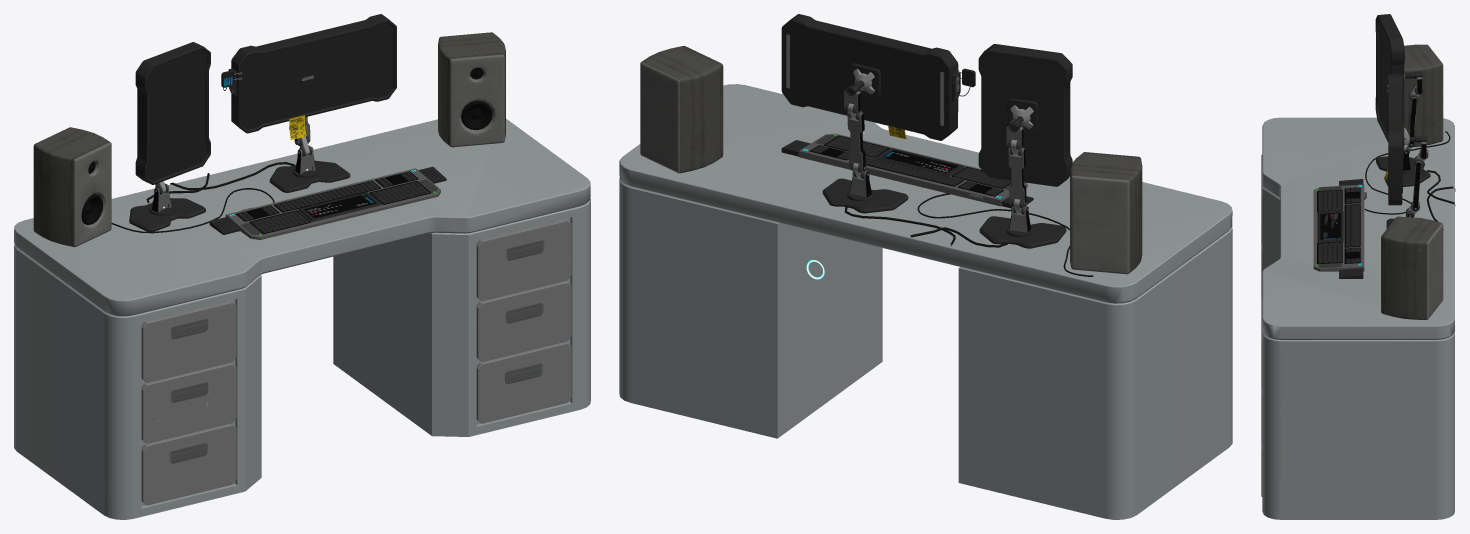
File: command-console.glb
3 views of the same model, side by side, from view 1: azimuth 30°, elevation 25°; view 2: azimuth 150°, elevation 25°; view 3: azimuth 270°, elevation 25° (orthographic). The views are drawn at different scales.
Parts seen in each view (by area): view 1: Object_2, Object_13, Object_12, Object_4, Object_5, Object_6; view 2: Object_2, Object_13, Object_12, Object_4, Object_6; view 3: Object_2, Object_12, Object_13, Object_4, Object_6.
Boxes of the visible parts, left/top/right/bottom form: Object_2: left=14, top=119, right=590, bottom=519; Object_13: left=129, top=14, right=396, bottom=231; Object_12: left=33, top=32, right=505, bottom=247; Object_4: left=209, top=166, right=446, bottom=239; Object_5: left=81, top=67, right=492, bottom=224; Object_6: left=111, top=162, right=295, bottom=233; Object_2: left=619, top=84, right=1232, bottom=519; Object_13: left=781, top=14, right=1072, bottom=248; Object_12: left=640, top=46, right=1142, bottom=274; Object_4: left=781, top=133, right=1033, bottom=208; Object_6: left=844, top=193, right=1093, bottom=276; Object_2: left=1261, top=117, right=1454, bottom=519; Object_12: left=1381, top=44, right=1443, bottom=319; Object_13: left=1375, top=14, right=1430, bottom=228; Object_4: left=1313, top=179, right=1366, bottom=278; Object_6: left=1364, top=131, right=1455, bottom=229.
Bounding box in the file's own units: 1.82 × 1.38 × 0.7154.
7 materials, 4 textured.
